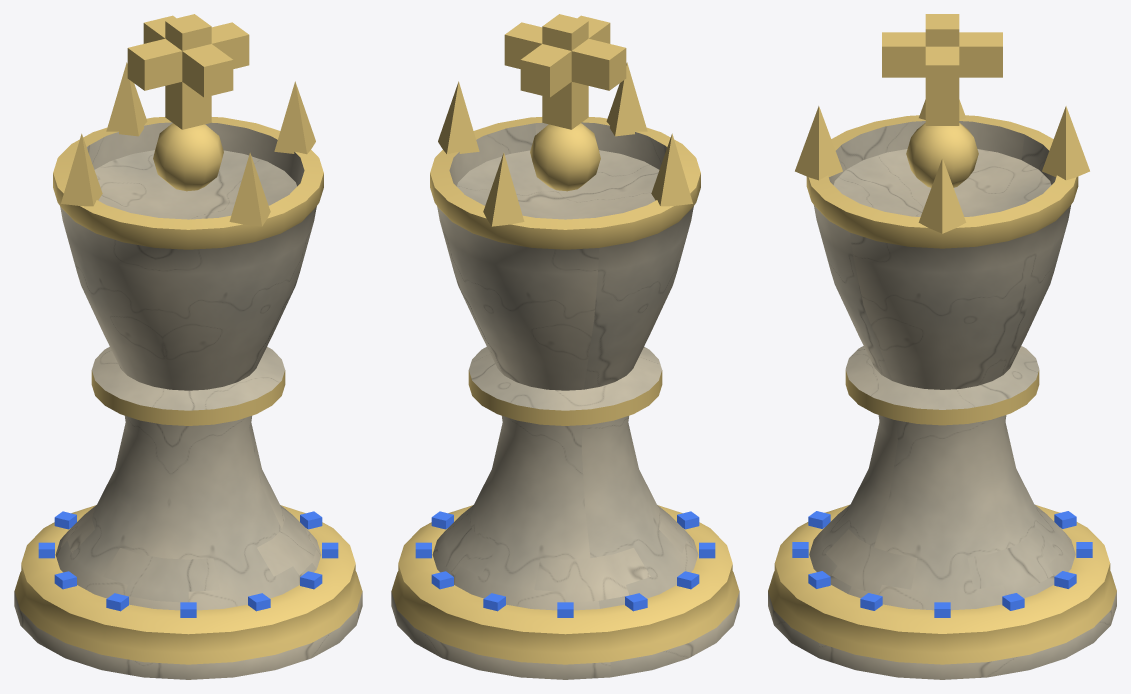
Rendered from king_light.glb.
The picture shows the model from 3 angles, left to right: view 1: azimuth 30°, elevation 25°; view 2: azimuth 150°, elevation 25°; view 3: azimuth 270°, elevation 25°; orthographic projection.
Parts seen in each view (by area): view 1: Piece_King_Light_Mesh; view 2: Piece_King_Light_Mesh; view 3: Piece_King_Light_Mesh.
Part boxes in pixels (x1,y1,x2,y2): Piece_King_Light_Mesh: (14, 14, 362, 679); Piece_King_Light_Mesh: (391, 14, 739, 679); Piece_King_Light_Mesh: (768, 14, 1116, 679).
Bounding box in the file's own units: 0.72 × 1.33 × 0.72.
3 materials, 1 textured.
